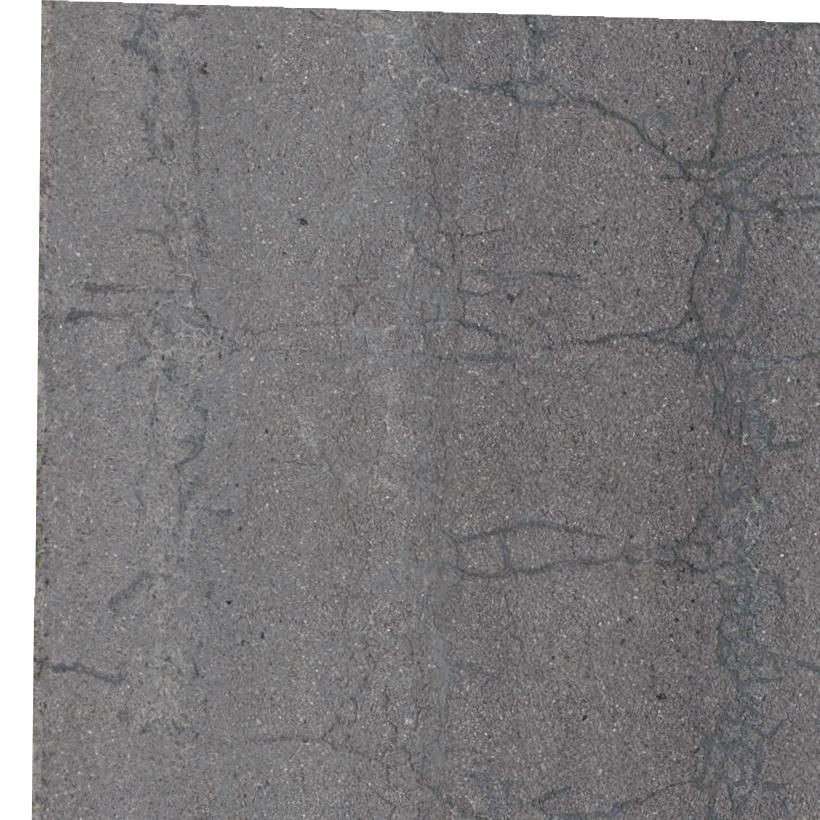GRIETA: (422, 41, 677, 165), (710, 29, 776, 155), (530, 781, 682, 819), (463, 555, 642, 578), (456, 520, 606, 543), (557, 331, 646, 349), (51, 663, 129, 682), (476, 270, 571, 277), (540, 786, 571, 802), (461, 227, 505, 238), (772, 206, 819, 214), (782, 152, 819, 158)
PIEL DE COCODRILO: (646, 144, 793, 817), (320, 554, 441, 799), (129, 148, 238, 406), (396, 176, 503, 363), (316, 384, 392, 501)
